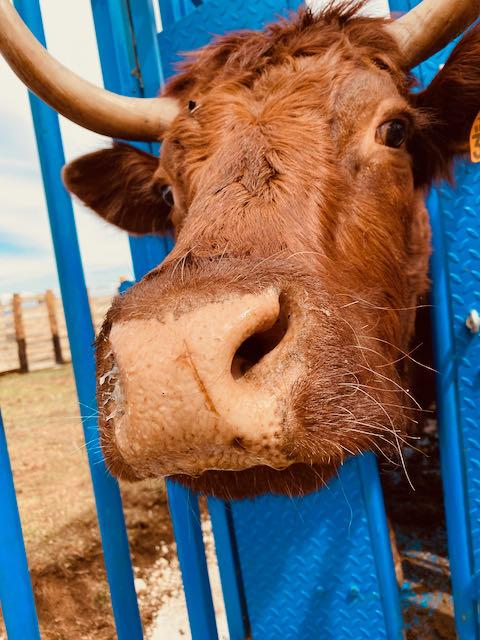muzzles: (78, 302, 406, 508)
